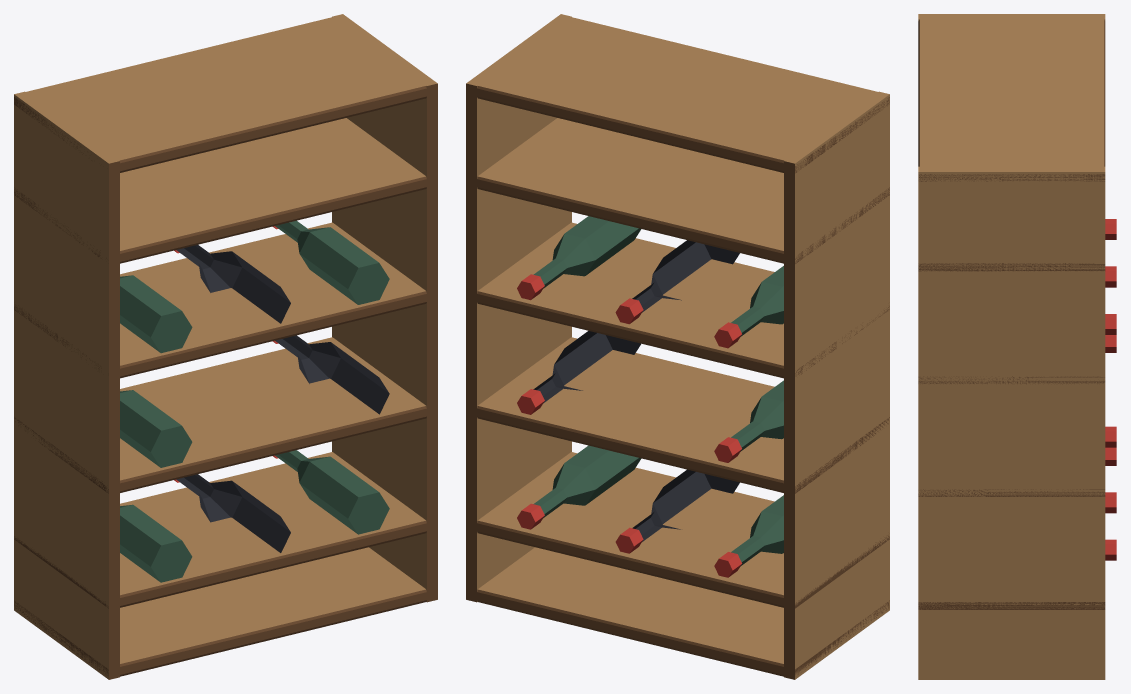
File: FN_Rack_Wine.obj
The picture shows the model from 3 angles, left to right: view 1: azimuth 30°, elevation 25°; view 2: azimuth 150°, elevation 25°; view 3: azimuth 270°, elevation 25°; orthographic projection.
Visible parts, largest first — view 1: FN_Rack_Wine; view 2: FN_Rack_Wine; view 3: FN_Rack_Wine.
Part boxes in pixels (<box>): FN_Rack_Wine: <box>14,14,437,679</box>; FN_Rack_Wine: <box>466,14,889,679</box>; FN_Rack_Wine: <box>918,14,1116,679</box>.
Bounding box in the file's own units: 0.6 × 0.9 × 0.318.
Materials: 1 (1 with a texture image).
